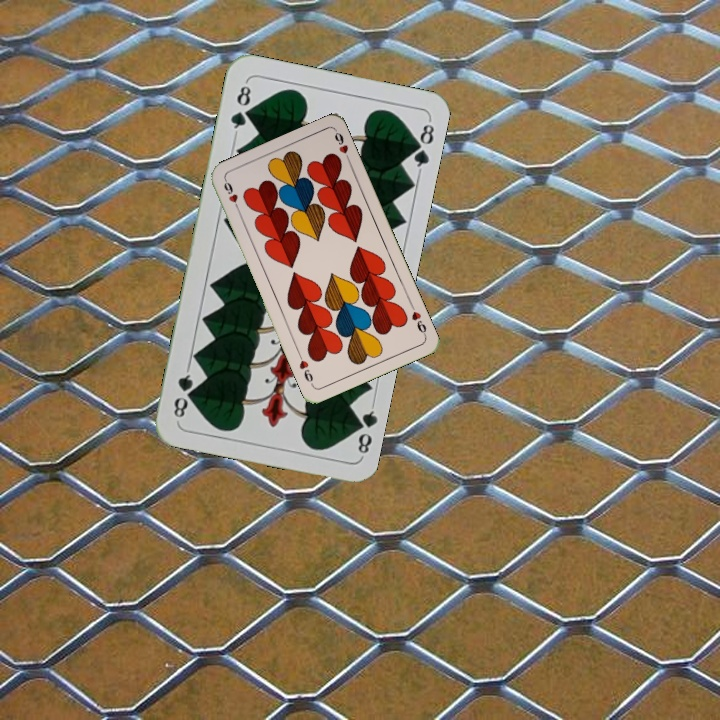G8: (348, 400, 379, 459), (226, 78, 254, 137)
H9: (406, 300, 429, 339), (220, 176, 242, 214)
